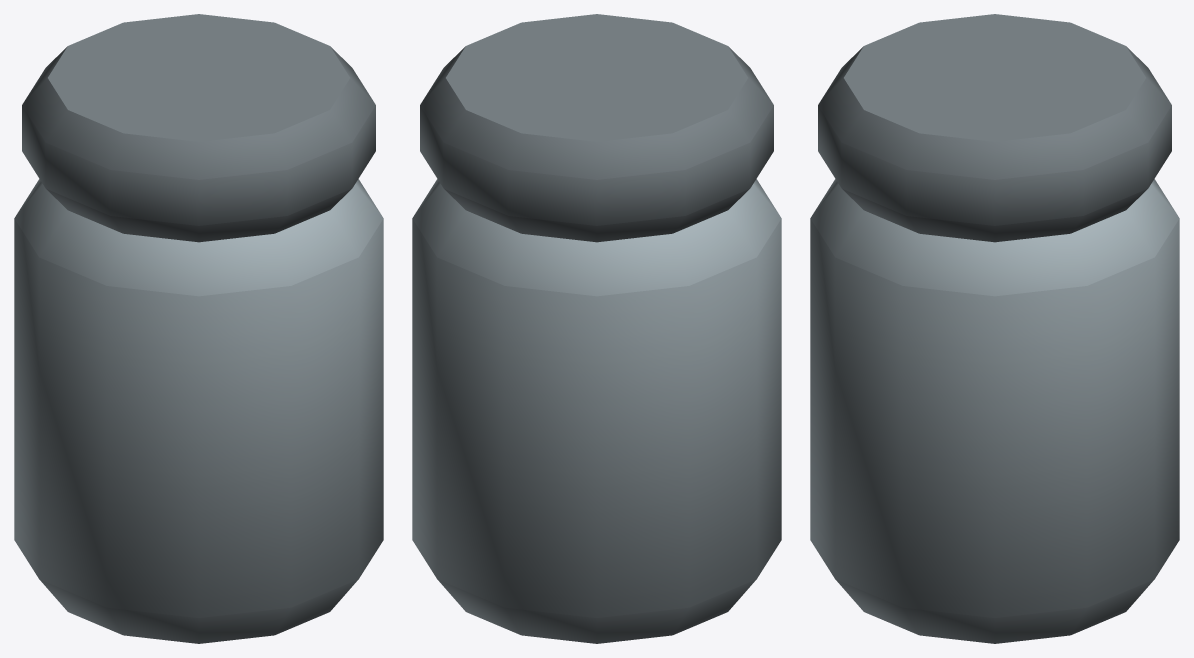
Rendered from jar_B_large.glb.
3 renders of one model, left to right at view 1: azimuth 30°, elevation 25°; view 2: azimuth 150°, elevation 25°; view 3: azimuth 270°, elevation 25°, orthographic.
Parts seen in each view (by area): view 1: jar_B_large; view 2: jar_B_large; view 3: jar_B_large.
Part boxes in pixels (box(x1,y1,x2,y2)): jar_B_large: box(14, 14, 383, 643); jar_B_large: box(412, 14, 781, 643); jar_B_large: box(810, 14, 1179, 643).
Bounding box in the file's own units: 0.5 × 0.75 × 0.5.
1 material, 1 textured.
